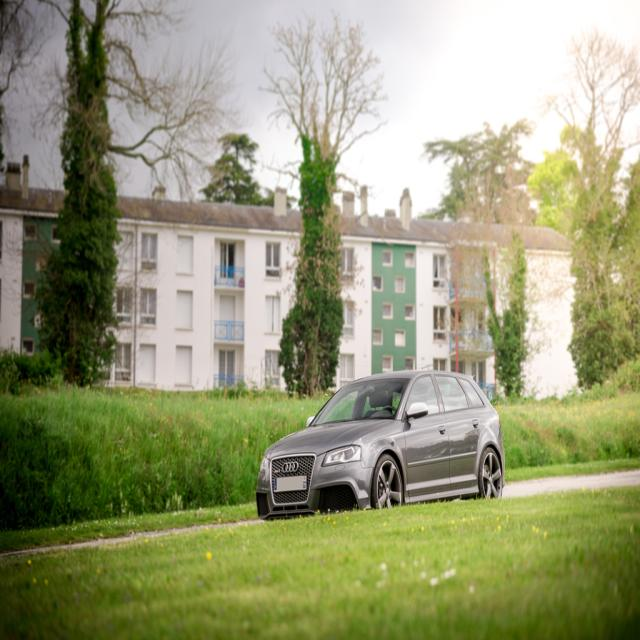car: (255, 365, 501, 519)
